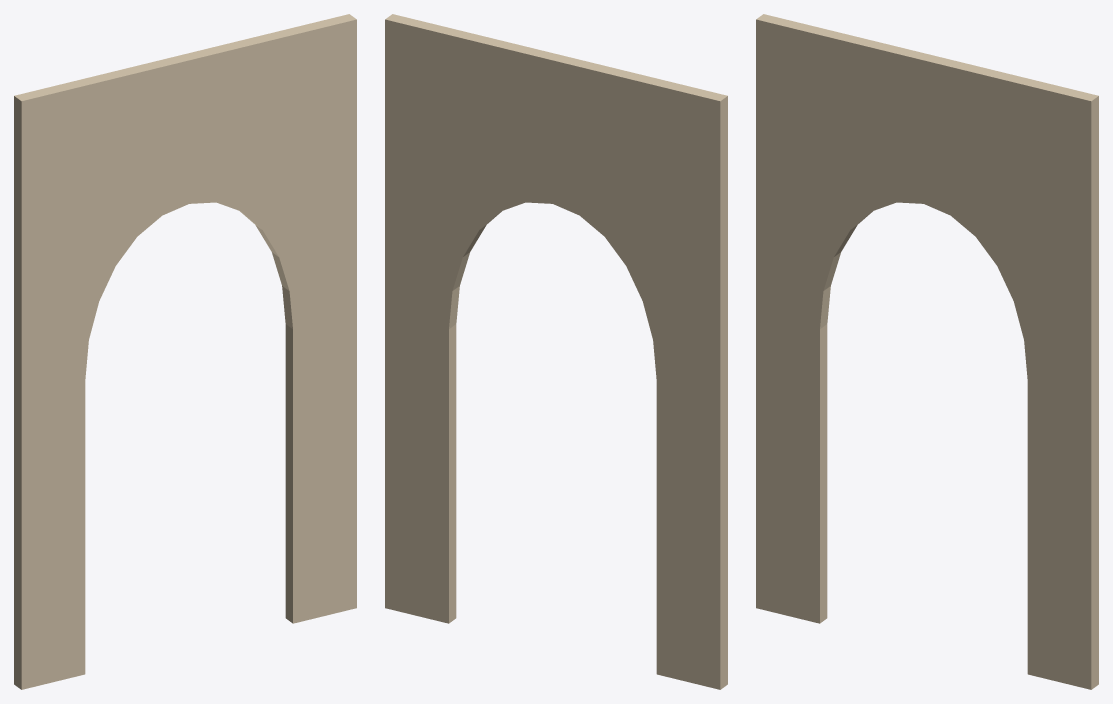
Rendered from arch_wall_infill.fbx.
3 views of the same model, side by side, from view 1: azimuth 30°, elevation 25°; view 2: azimuth 150°, elevation 25°; view 3: azimuth 330°, elevation 25° (orthographic).
Parts seen in each view (by area): view 1: arch_wall_infill; view 2: arch_wall_infill; view 3: arch_wall_infill.
Part boxes in pixels (x1,y1,x2,y2): arch_wall_infill: (14, 14, 356, 689); arch_wall_infill: (385, 14, 727, 689); arch_wall_infill: (756, 14, 1098, 689).
Bounding box in the file's own units: 1.55 × 2.6 × 0.06.
